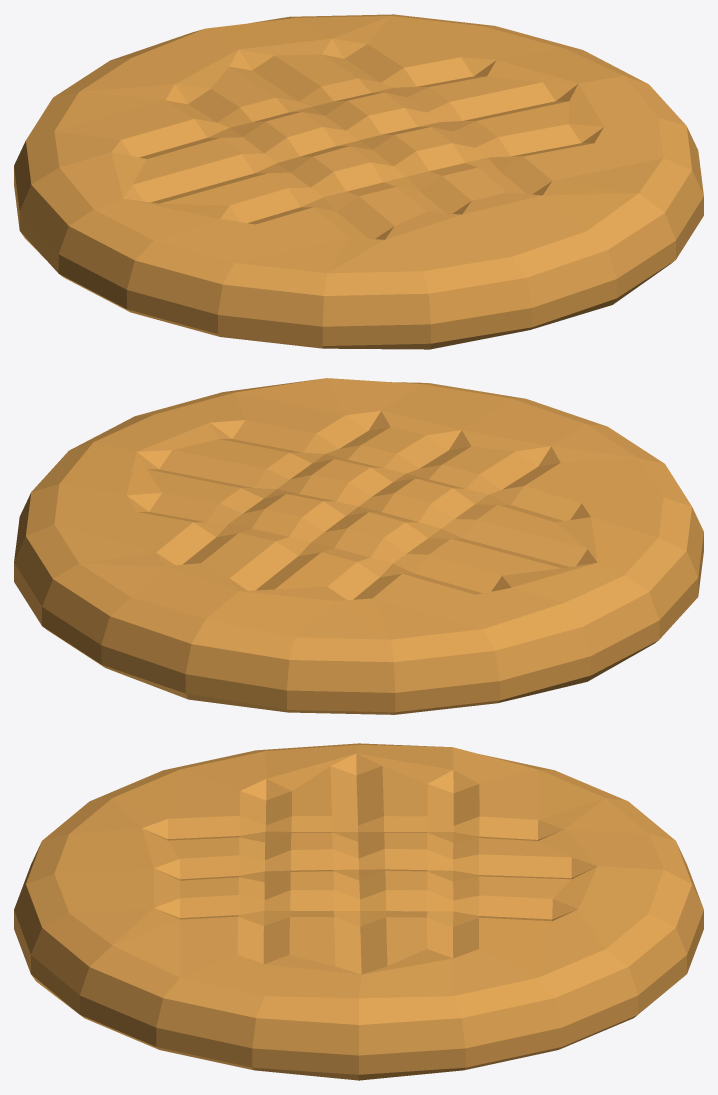
The model's file is cookie_plain.fbx.
3 renders of one model, top to bottom at view 1: azimuth 30°, elevation 25°; view 2: azimuth 150°, elevation 25°; view 3: azimuth 270°, elevation 25°, orthographic.
Parts seen in each view (by area): view 1: cookie_plain; view 2: cookie_plain; view 3: cookie_plain.
Boxes of the visible parts, x1=… form: cookie_plain: x1=14, y1=14, x2=703, y2=349; cookie_plain: x1=14, y1=378, x2=703, y2=714; cookie_plain: x1=14, y1=743, x2=703, y2=1080.
Bounding box in the file's own units: 0.02 × 0.00247 × 0.02.
